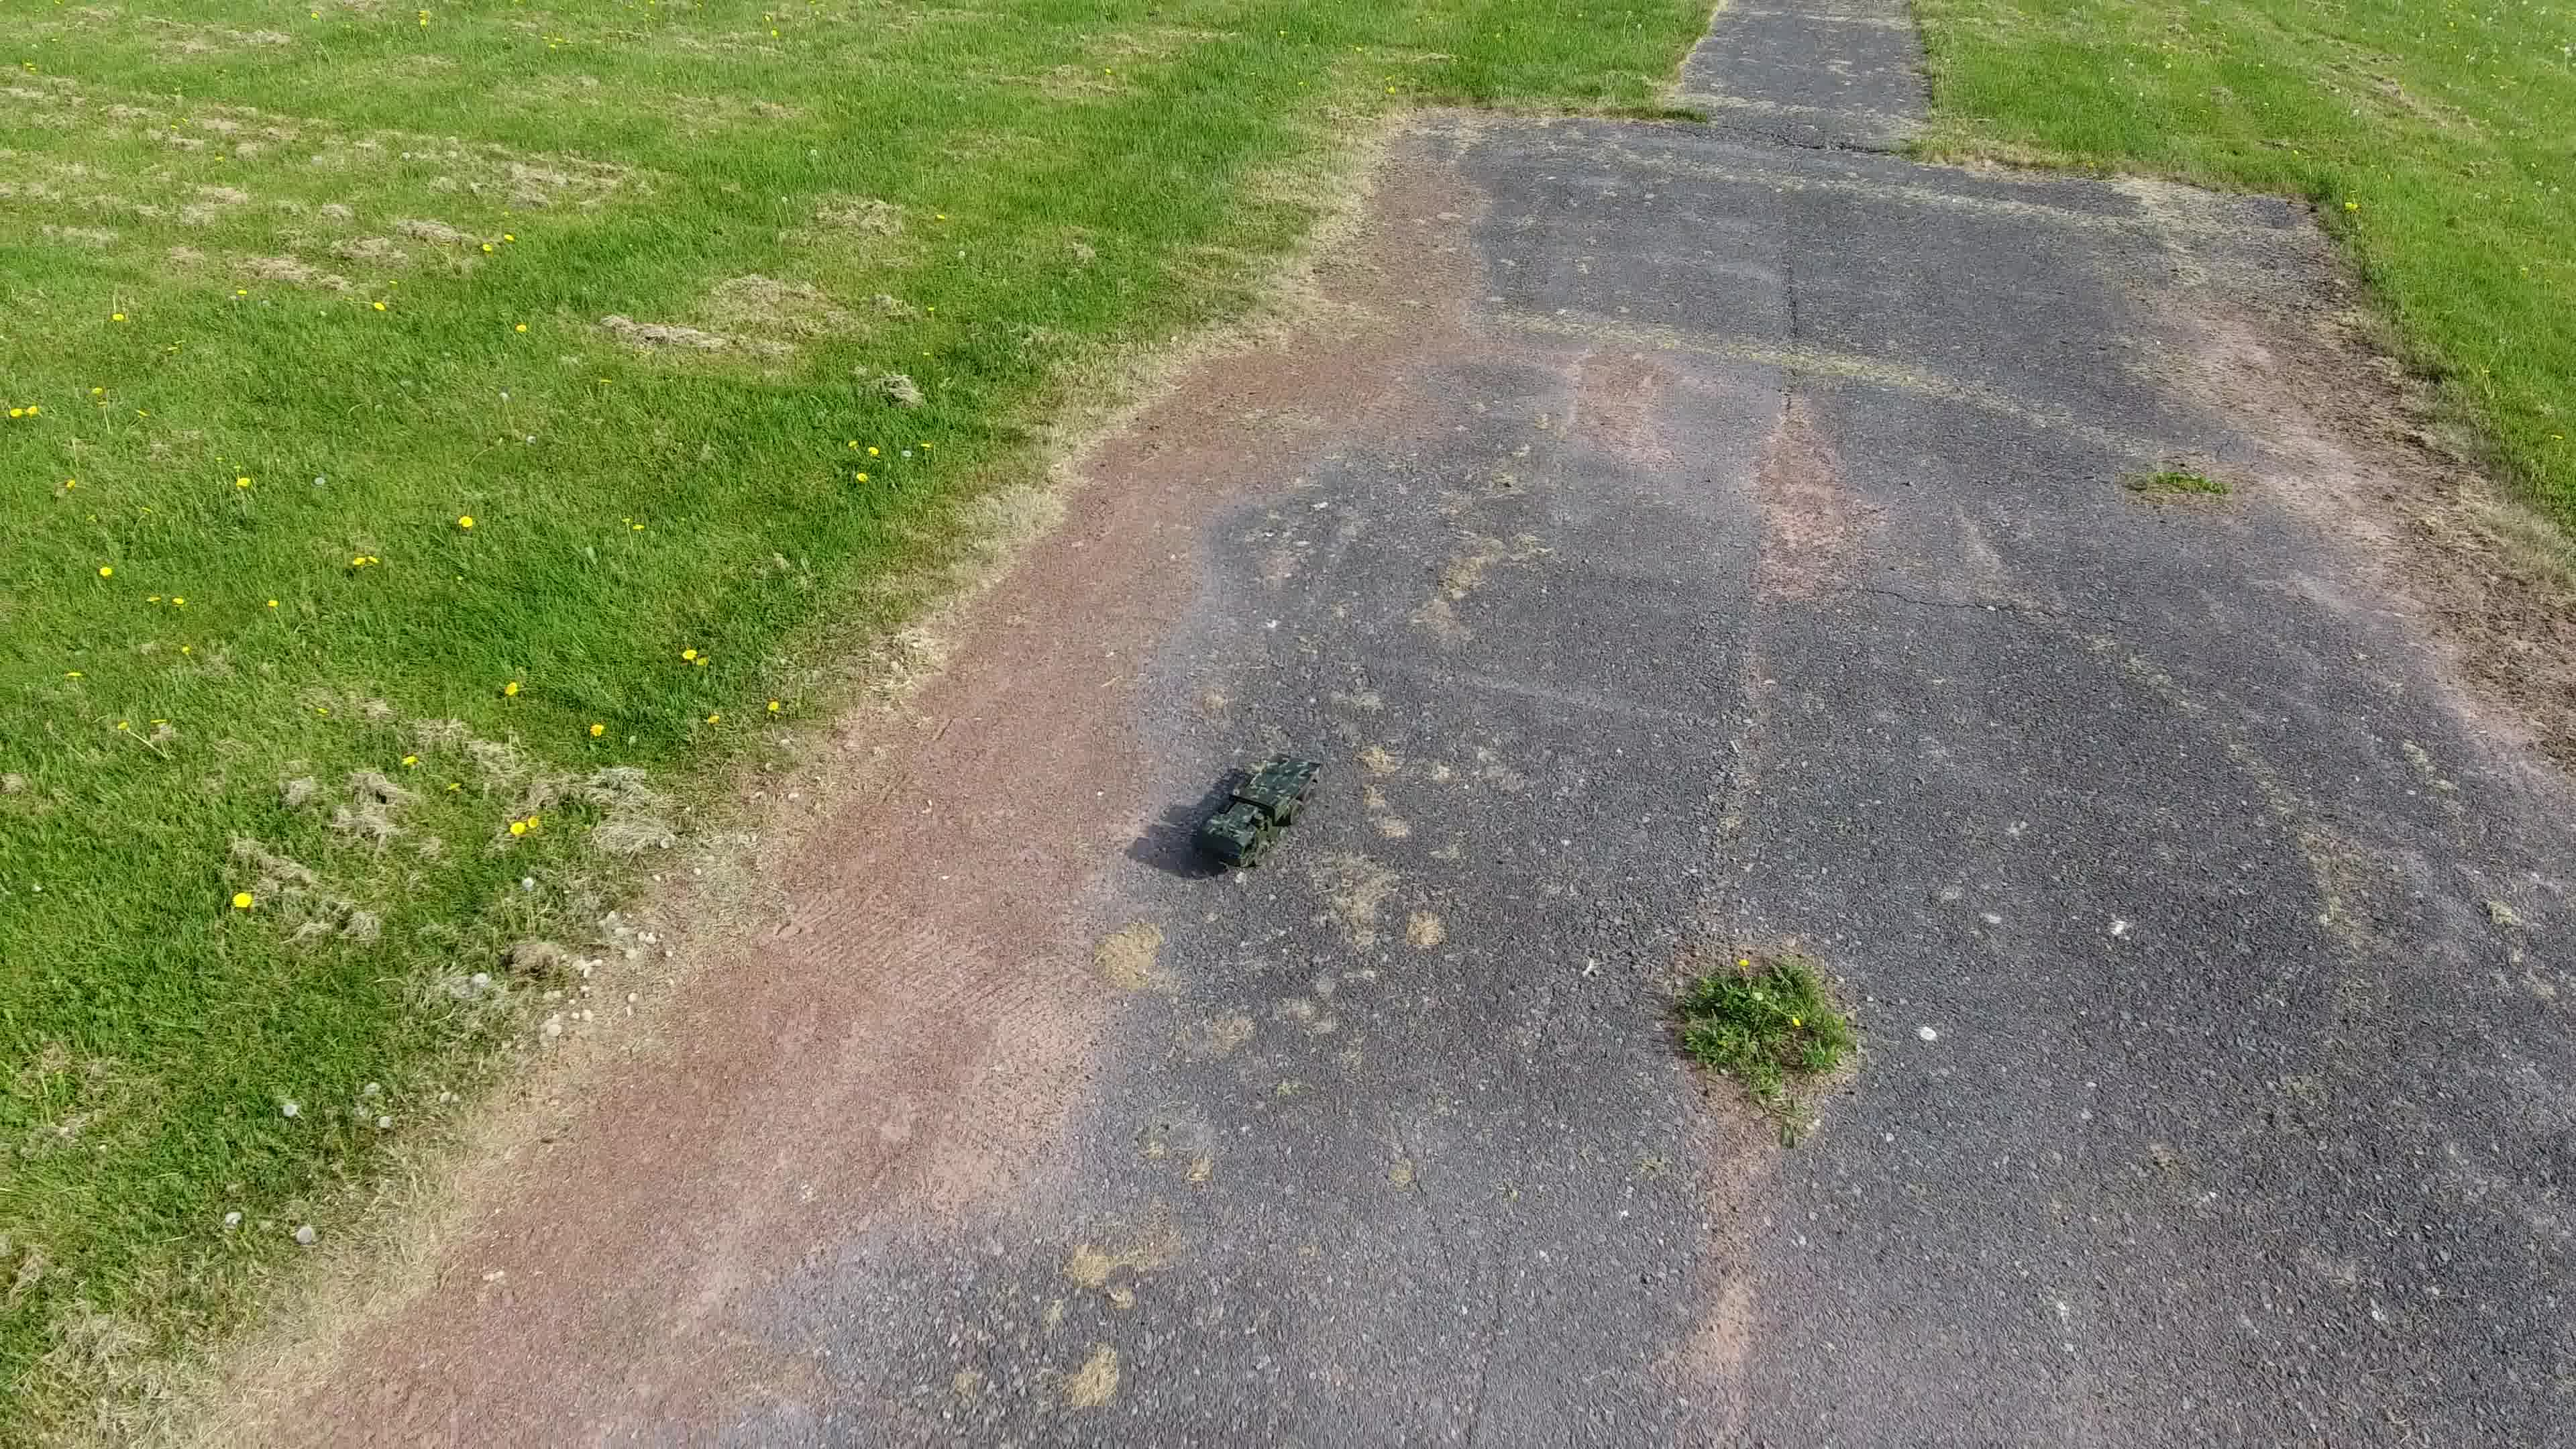transporter9_camo: (1185, 745, 1325, 872)
